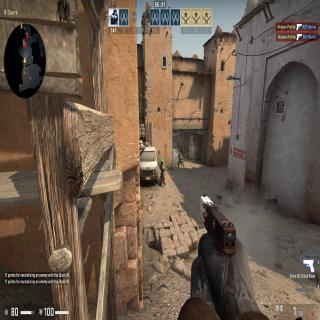CT-Body: (160, 159, 165, 185), (178, 150, 182, 168)
CT-Head: (161, 160, 164, 164), (178, 151, 180, 155)
